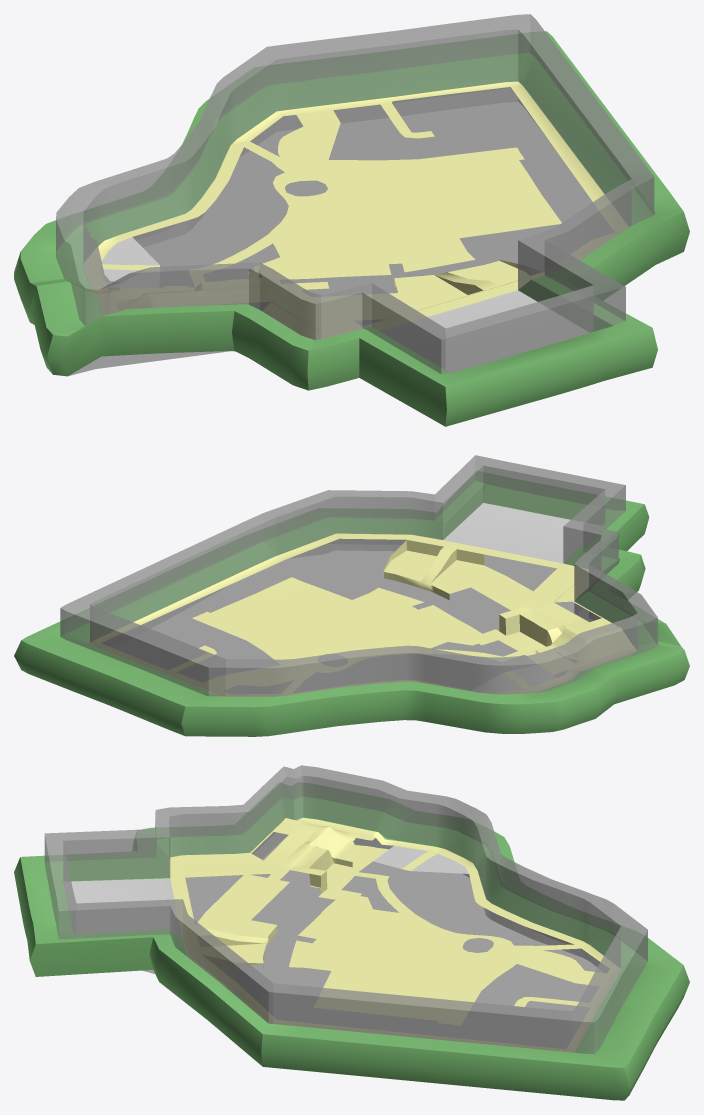
File: outbot.fbx
3 renders of one model, top to bottom at view 1: azimuth 30°, elevation 25°; view 2: azimuth 150°, elevation 25°; view 3: azimuth 270°, elevation 25°, orthographic. The views are drawn at different scales.
Visible parts, largest first — view 1: out_floor, col_wall, floor_2nd; view 2: out_floor, col_wall, floor_2nd; view 3: out_floor, col_wall, floor_2nd.
Part boxes in pixels (box(x1,y1,x2,y2)): out_floor: box(14, 31, 689, 426); col_wall: box(56, 14, 654, 374); floor_2nd: box(113, 259, 542, 335); out_floor: box(14, 471, 689, 736); col_wall: box(60, 455, 657, 696); floor_2nd: box(383, 539, 619, 667); out_floor: box(14, 782, 689, 1100); col_wall: box(44, 765, 647, 1053); floor_2nd: box(183, 822, 374, 968).
Bounding box in the file's own units: 73.01 × 10.25 × 73.79.
